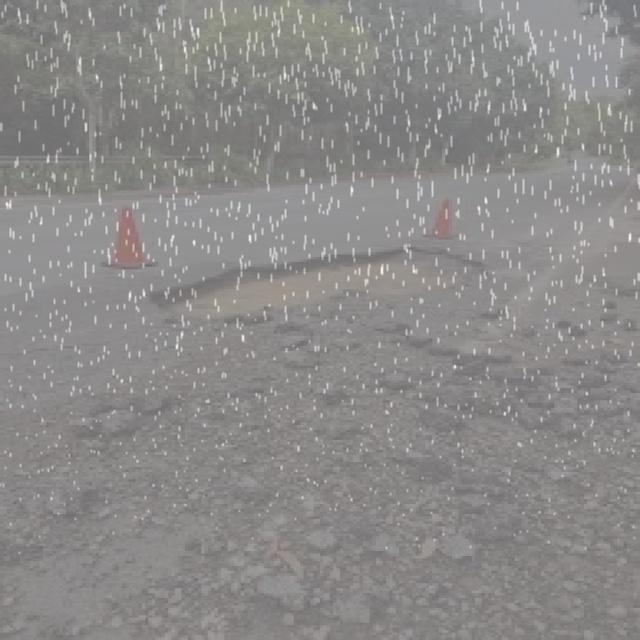Pothole: (133, 236, 500, 317)
